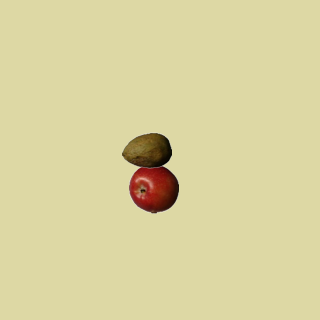Apple Braeburn: (128, 163, 178, 213)
Papaya: (121, 125, 171, 175)
